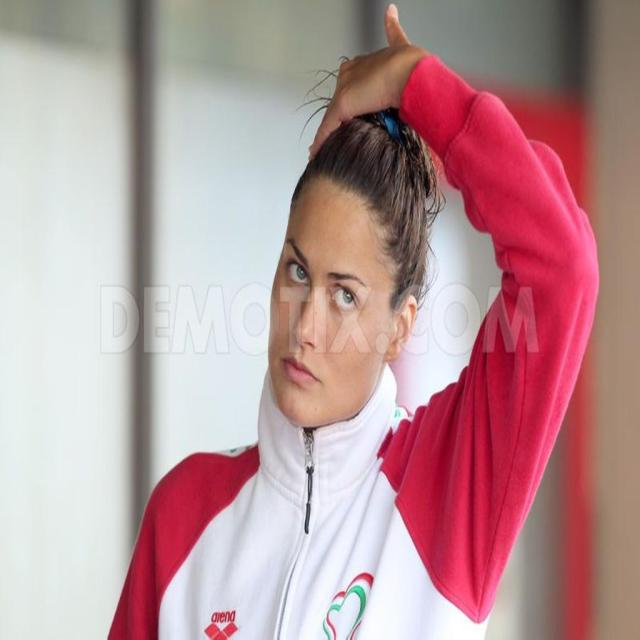Face: (255, 153, 412, 436)
